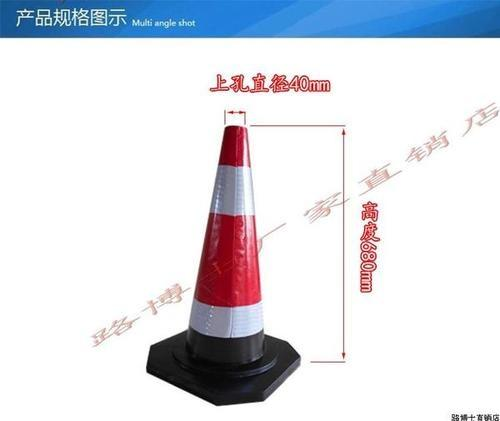cone_barrel: (174, 125, 279, 382)
